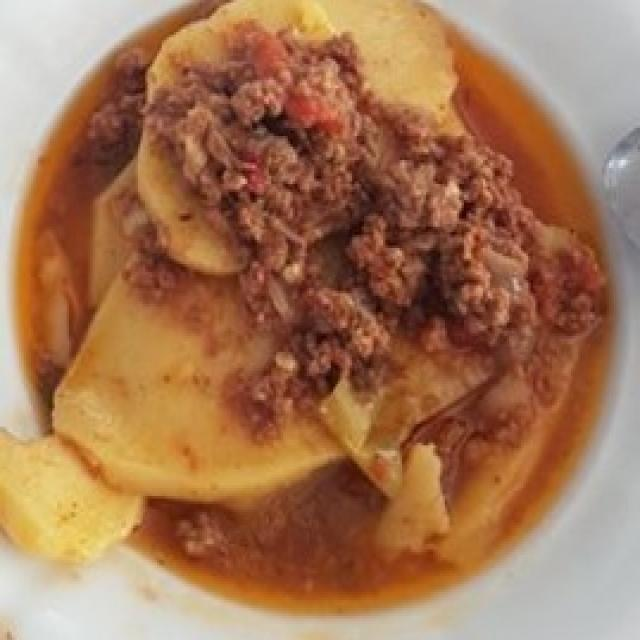ana_yemek: (0, 0, 611, 610)
